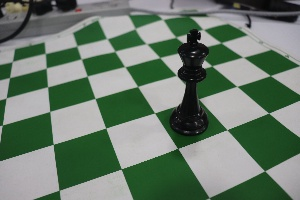black_king: (166, 20, 215, 142)
